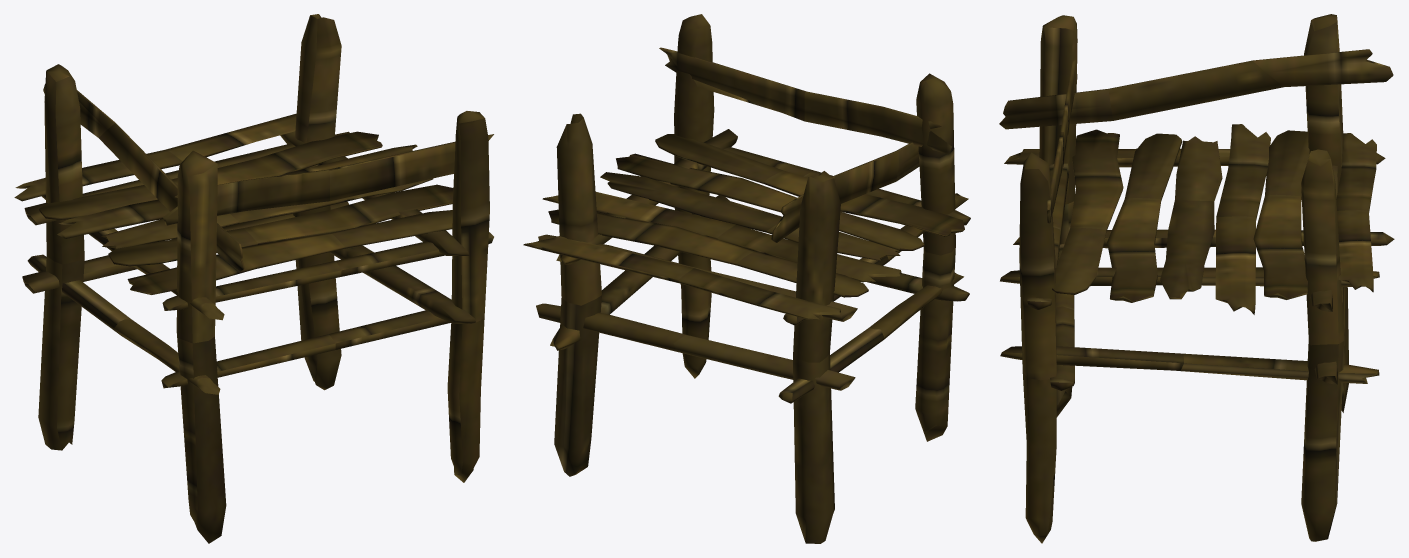
Rendered from footbridge_4.fbx.
3 renders of one model, left to right at view 1: azimuth 30°, elevation 25°; view 2: azimuth 150°, elevation 25°; view 3: azimuth 270°, elevation 25°, orthographic. The views are drawn at different scales.
Parts seen in each view (by area): view 1: footbridge_4; view 2: footbridge_4; view 3: footbridge_4.
Boxes of the visible parts, bbox=[...] form: footbridge_4: bbox=[14, 14, 493, 543]; footbridge_4: bbox=[523, 14, 970, 543]; footbridge_4: bbox=[999, 14, 1394, 543].
Bounding box in the file's own units: 400 × 402 × 361.
